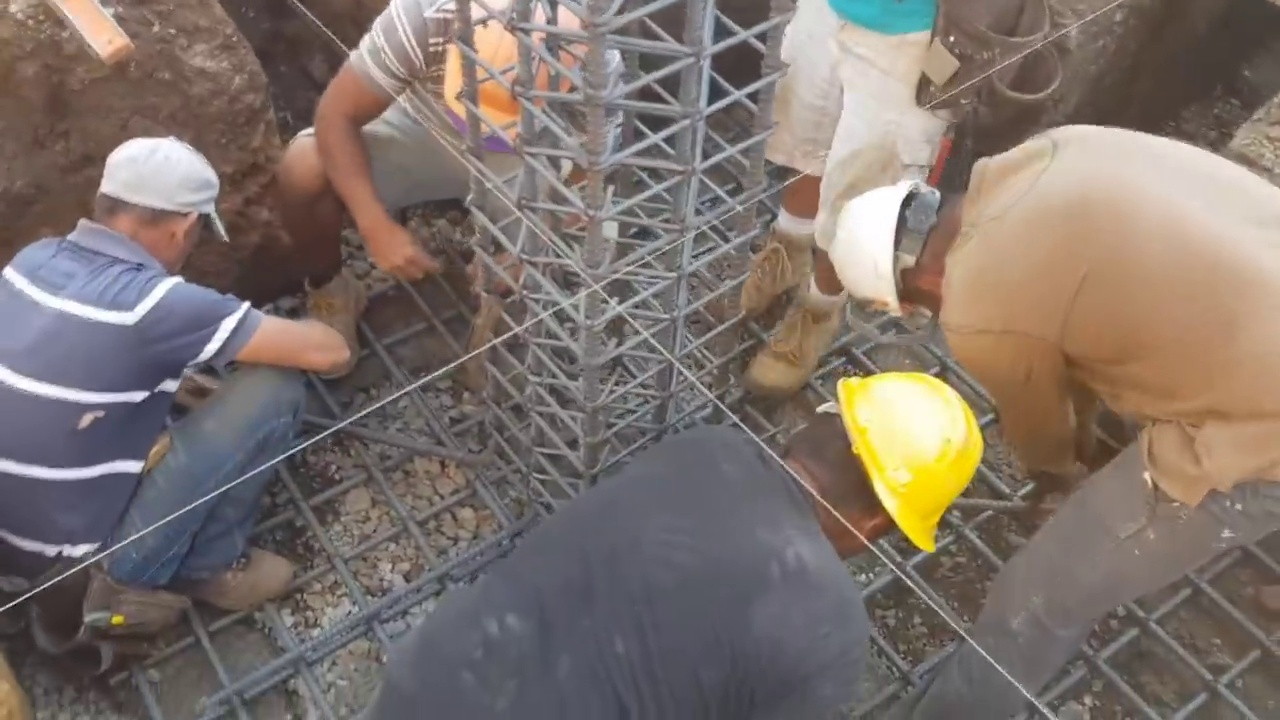helmet: (841, 377, 982, 551), (828, 162, 939, 334), (444, 6, 590, 131)
helmet-off: (84, 134, 221, 267)
helmet-on: (780, 375, 981, 564), (429, 3, 600, 162), (829, 164, 973, 333)
person: (824, 120, 1280, 716), (358, 383, 981, 720), (0, 124, 337, 648), (285, 0, 632, 348), (730, 0, 952, 402)
